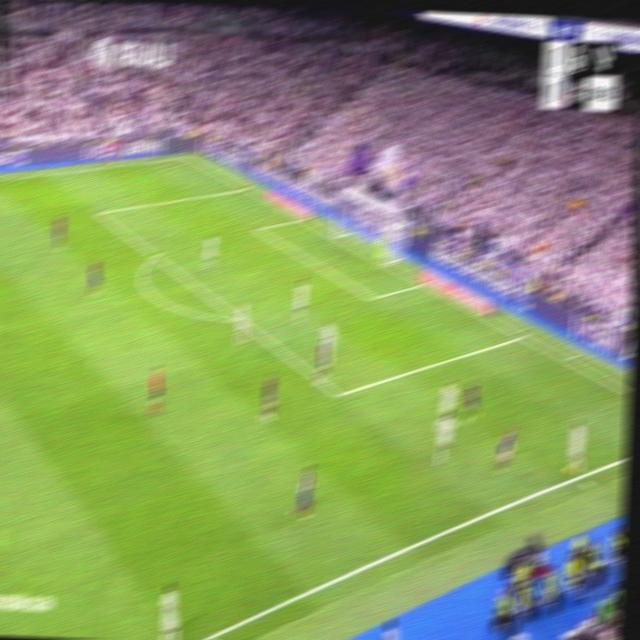bigarea_bottom_inner: (331, 384, 345, 404)
bigarea_bottom_outter: (515, 328, 529, 343)
bigarea_top_inner: (94, 205, 104, 218)
bigarea_top_outter: (239, 181, 251, 193)
smallarea_bottom_inner: (366, 288, 378, 306)
smallarea_bottom_outter: (417, 277, 427, 289)
smallarea_top_inner: (253, 223, 261, 231)
top_arc_area_intersection: (148, 247, 161, 261)
